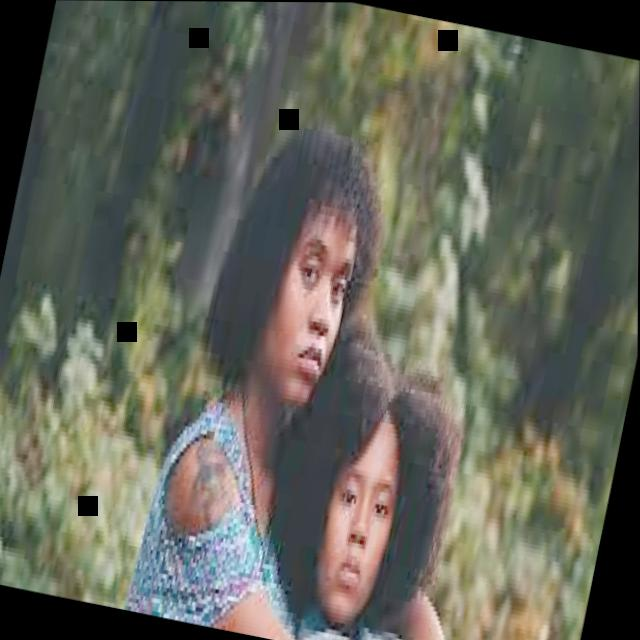NO-Mask: (258, 204, 365, 420), (307, 418, 411, 632)
